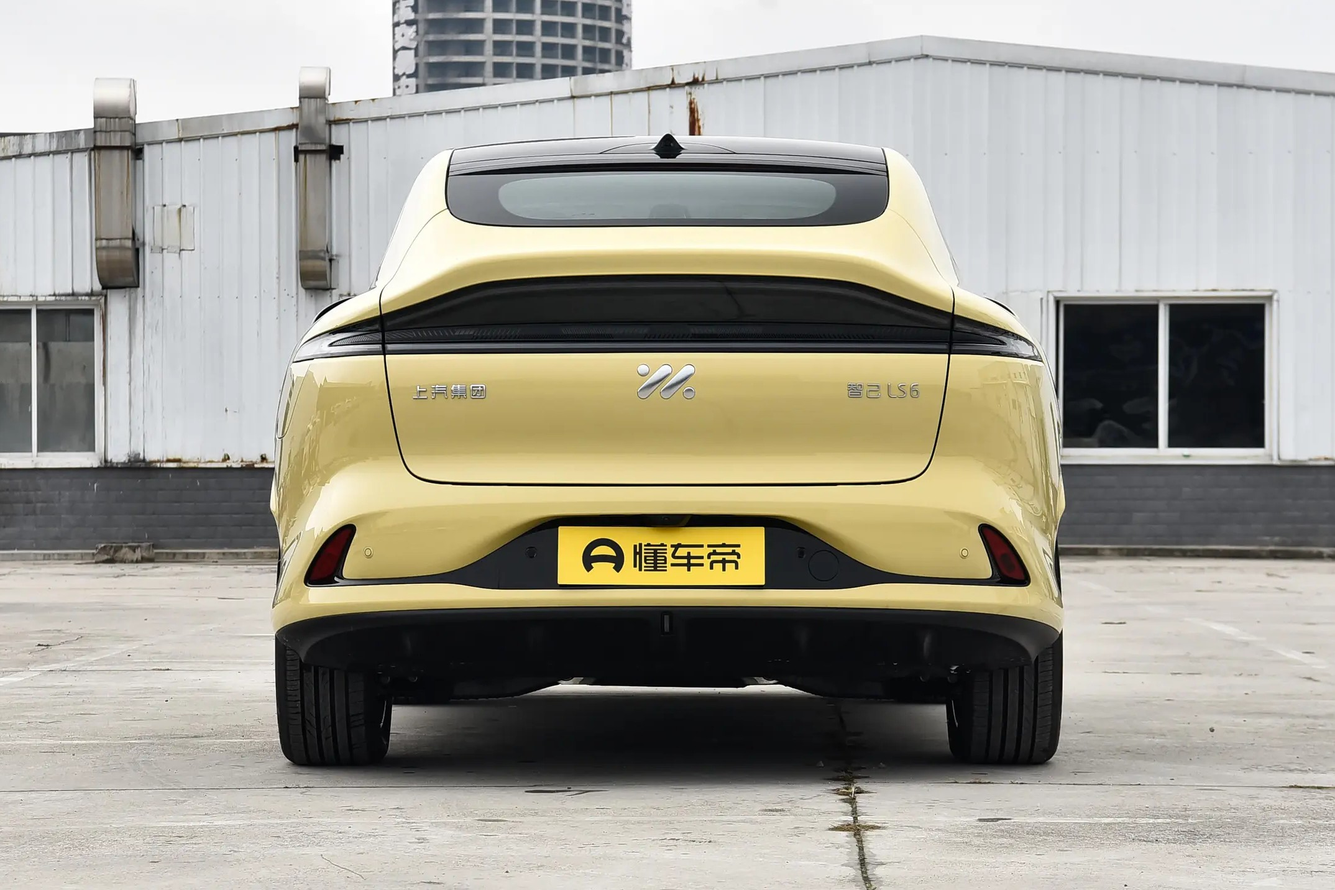IM: (637, 364, 695, 399)
